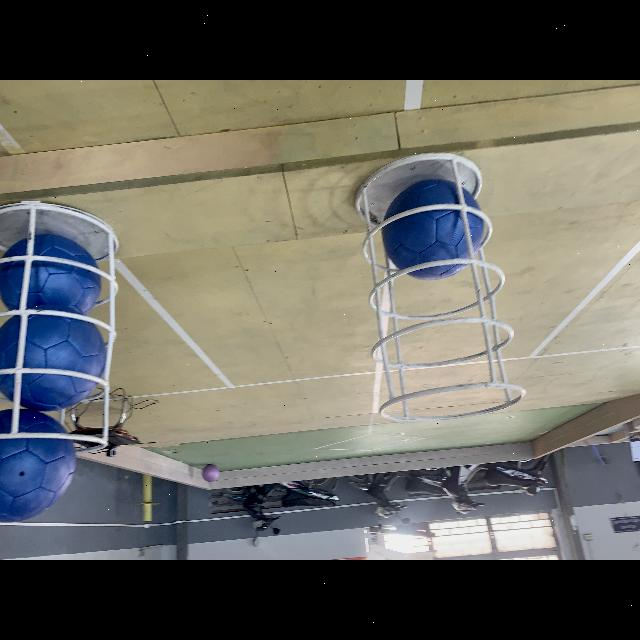B: (384, 180, 486, 280), (0, 315, 104, 409), (0, 410, 74, 524), (0, 235, 100, 319)
